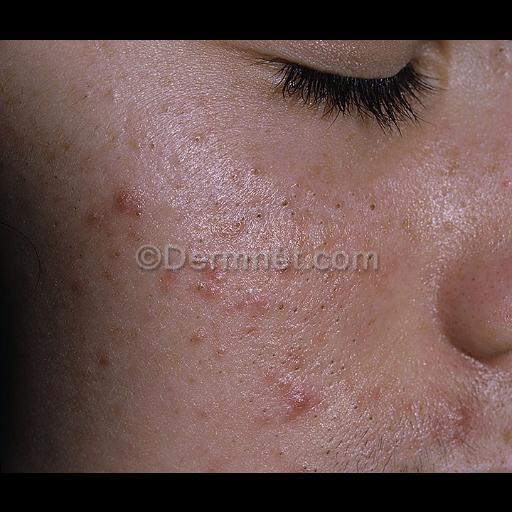Skin_Lesion: (264, 358, 318, 416), (436, 401, 474, 449), (198, 252, 228, 306), (226, 206, 266, 242), (191, 330, 229, 356), (112, 185, 142, 215), (240, 285, 270, 311), (272, 250, 296, 280), (276, 196, 302, 220), (122, 224, 148, 246), (277, 298, 301, 320), (352, 402, 374, 424), (66, 276, 90, 296), (92, 352, 116, 372), (402, 213, 420, 239), (166, 260, 182, 286), (246, 158, 266, 178), (325, 274, 345, 294), (320, 231, 338, 253), (86, 210, 104, 230), (329, 358, 347, 378), (292, 334, 310, 354), (104, 82, 124, 100), (442, 213, 456, 237), (300, 459, 324, 473), (362, 196, 380, 214), (54, 139, 76, 153), (140, 136, 158, 152), (106, 249, 126, 263), (330, 199, 346, 215), (198, 230, 212, 248), (242, 325, 260, 339), (176, 214, 192, 228), (307, 185, 319, 203), (51, 216, 61, 236), (184, 370, 198, 384), (288, 180, 304, 192), (193, 132, 205, 146), (196, 403, 208, 417), (271, 447, 285, 459), (172, 154, 188, 164), (304, 273, 314, 289), (372, 380, 382, 396), (225, 172, 239, 182), (316, 300, 326, 314)
